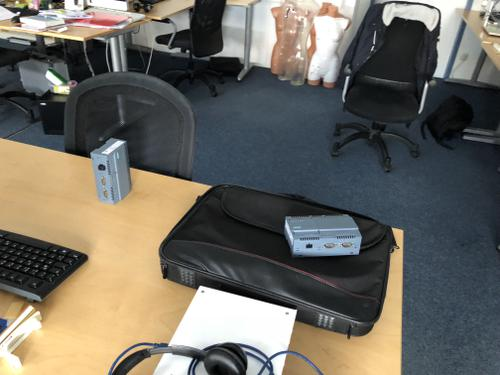device: (284, 215, 363, 258), (91, 138, 133, 205)
